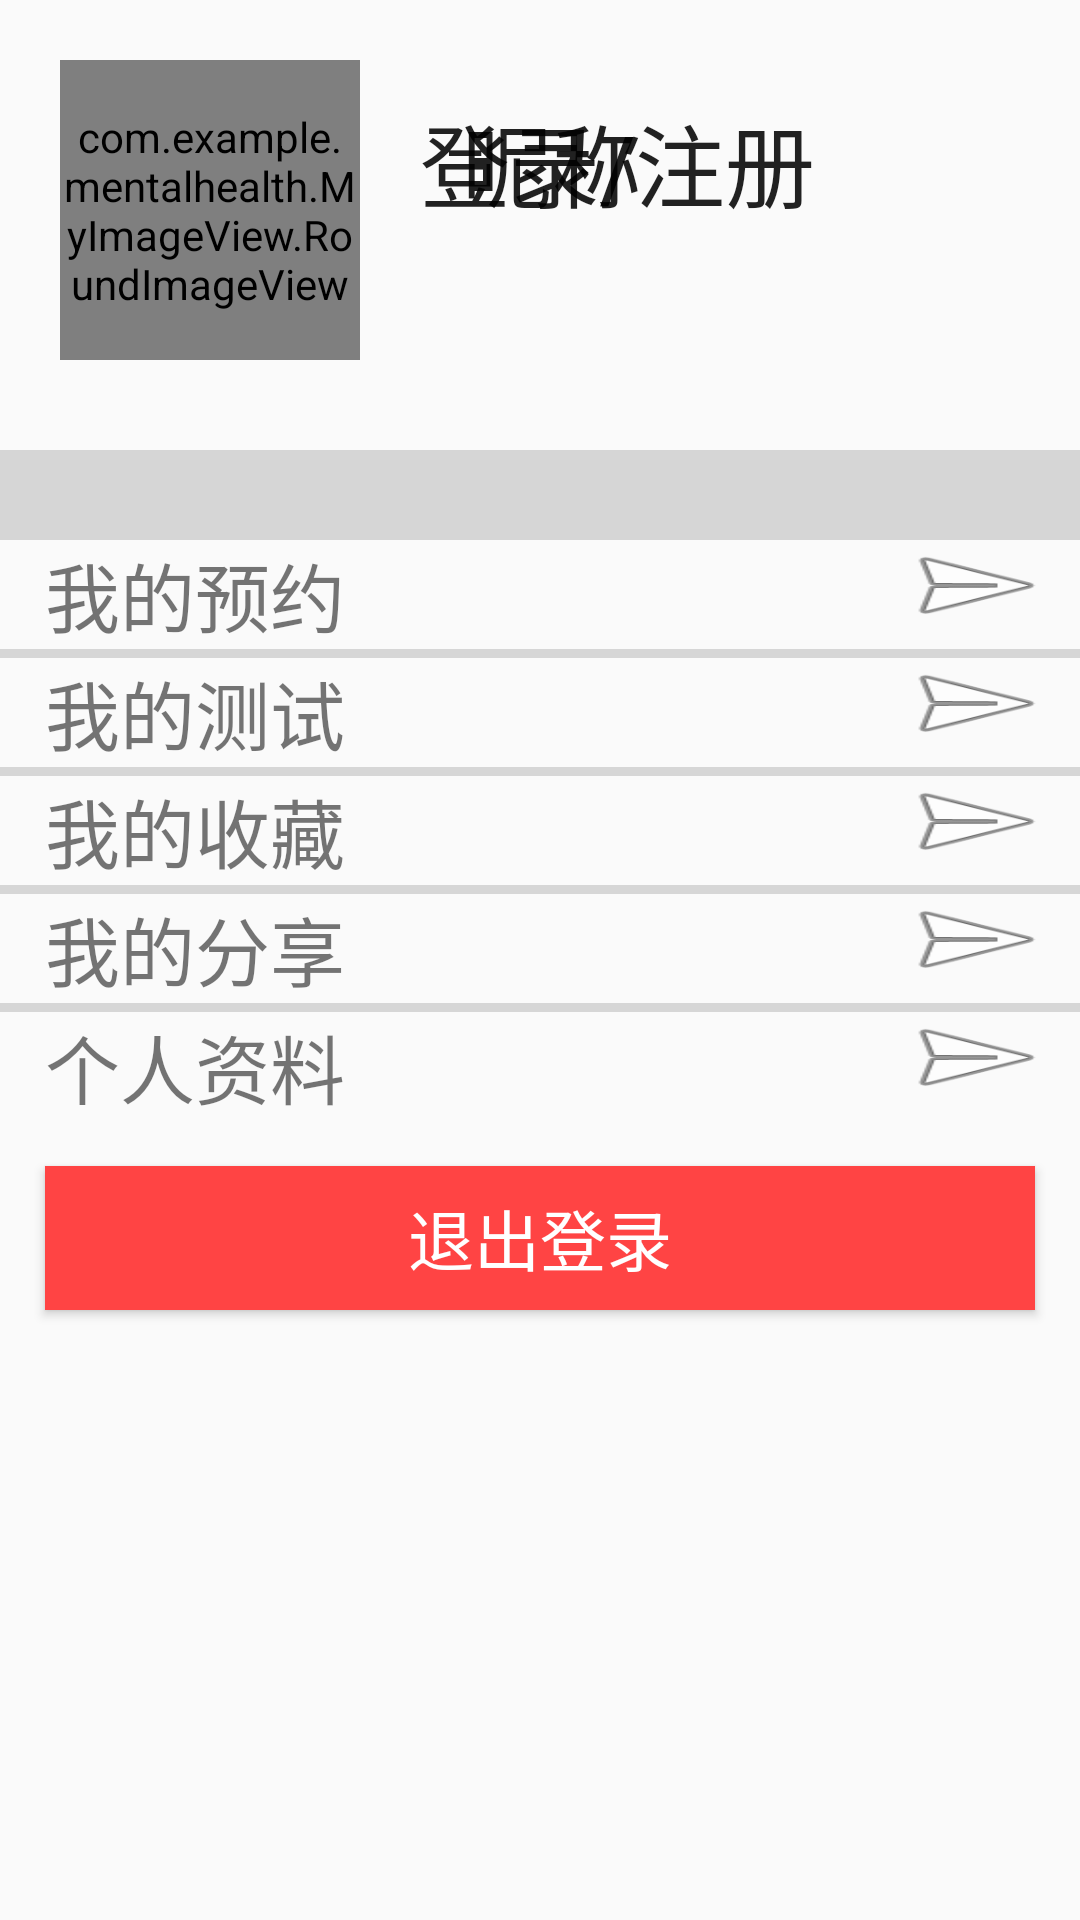

Point at icon controls on the screen. Image size 1080x1920, points as [x,y].
send: [977,585], [977,703], [977,821], [977,939], [977,1057]
